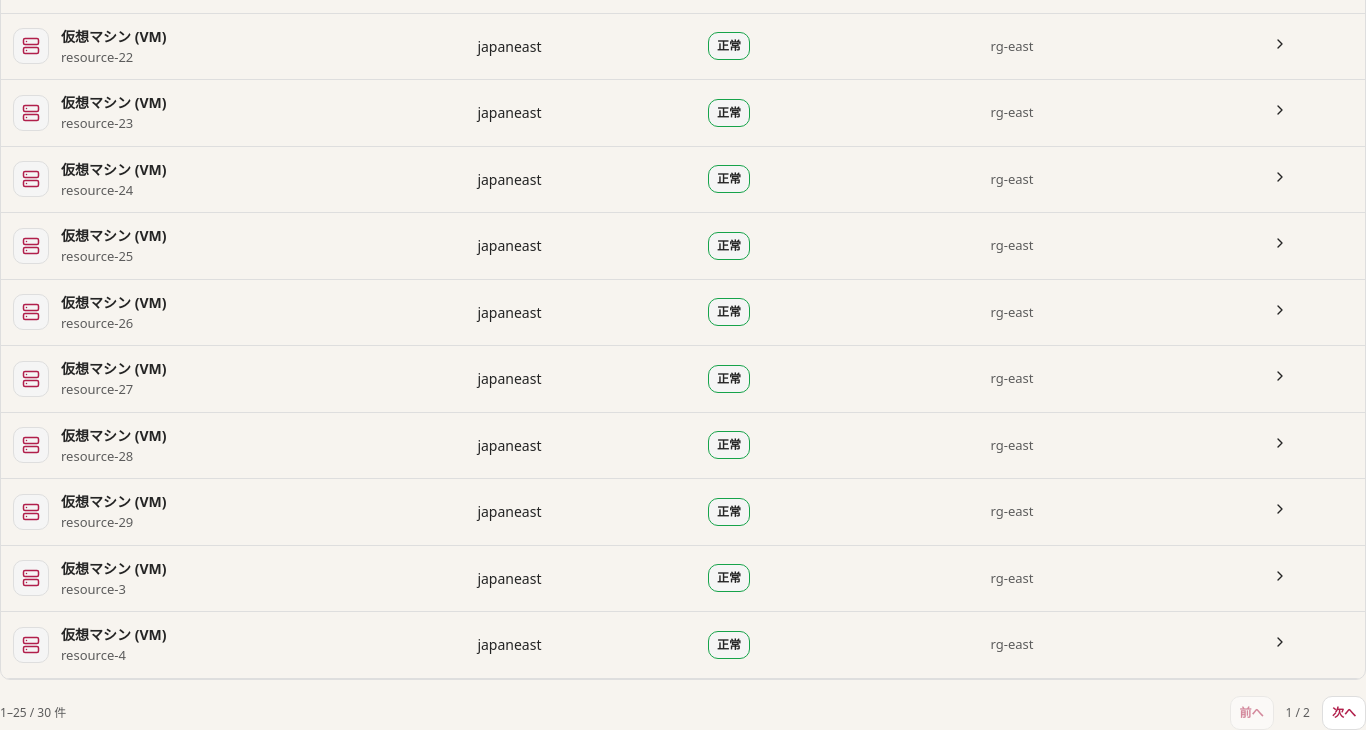
Test: Resource explorer › paginates and resets to the first page after filtering
(page scrolled)
Click the button "次へ": (1344, 712) [1322,696,1365,729]
(page scrolled)
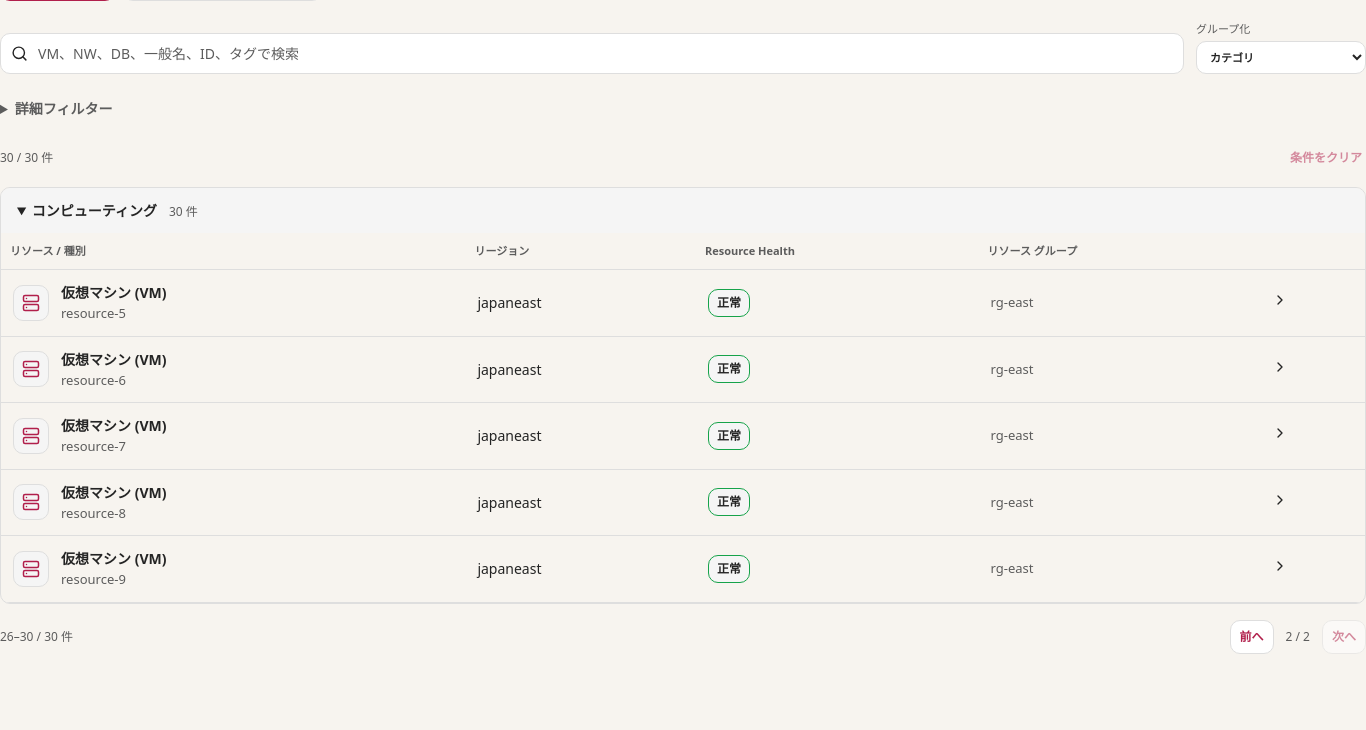
Expected: the number of buttons named "の詳細を開く" is 5, [13,282,166,324]; [13,348,166,390]; [13,415,166,456]; [13,482,166,523]; [13,548,166,590]
In the field: (604, 53) [36,42,1173,64], type "resource-29"
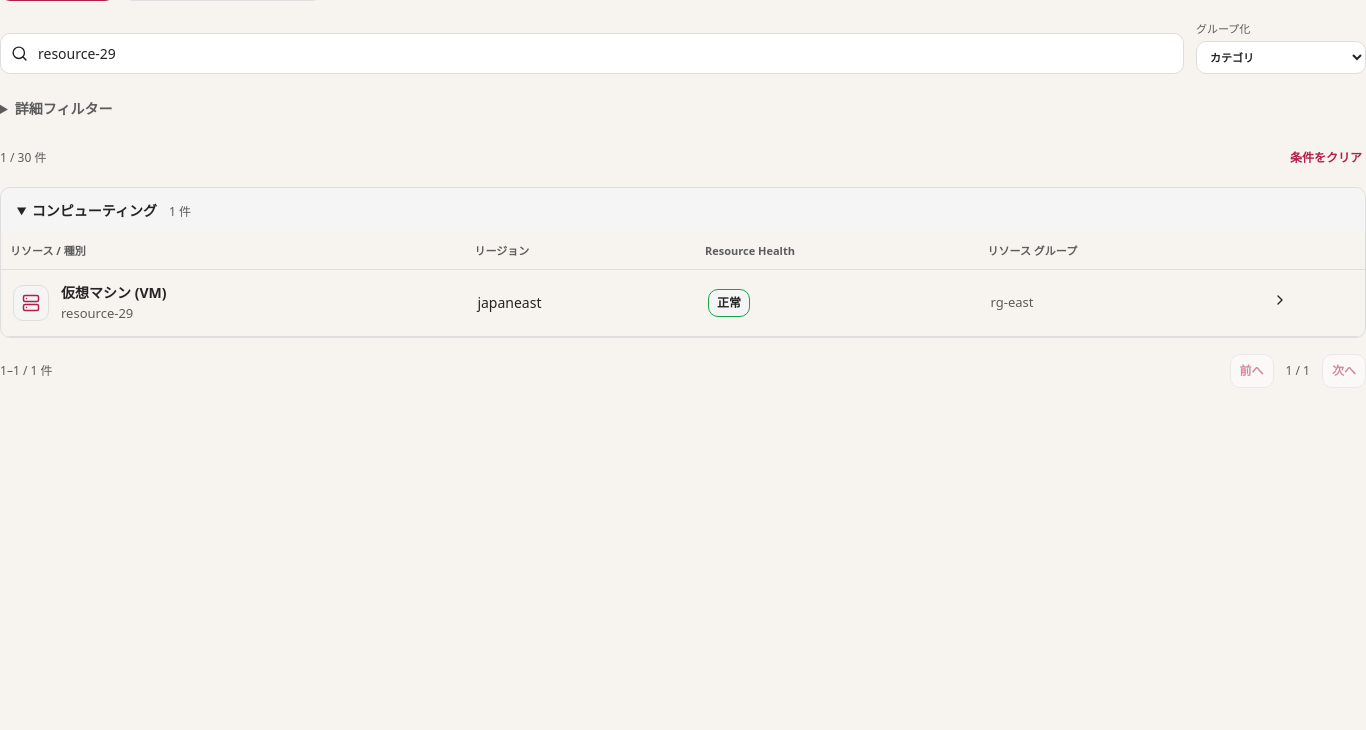
Expected: the number of buttons named "の詳細を開く" is 1, [13,282,166,324]
Expected: the button "前へ" is disabled, [1230,354,1274,388]
